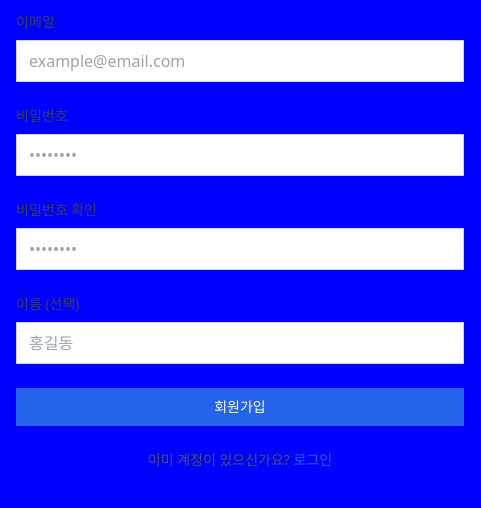
Test case: SignUpForm Component - TASK-009 › should show validation error for password mismatch
The image size is (481, 508).
In the field labelled "이메일": (240, 61) [16, 40, 464, 82], type "test@example.com"
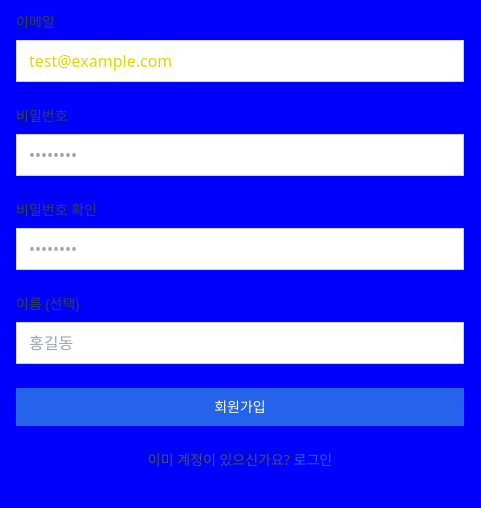
In the password field labelled "비밀번호": (240, 155) [16, 134, 464, 176], type "SecurePass123!"
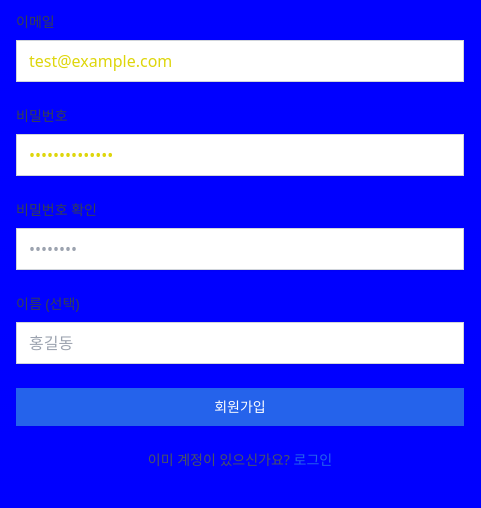
In the password field labelled "비밀번호 확인": (240, 249) [16, 228, 464, 270], type "DifferentPass123!"
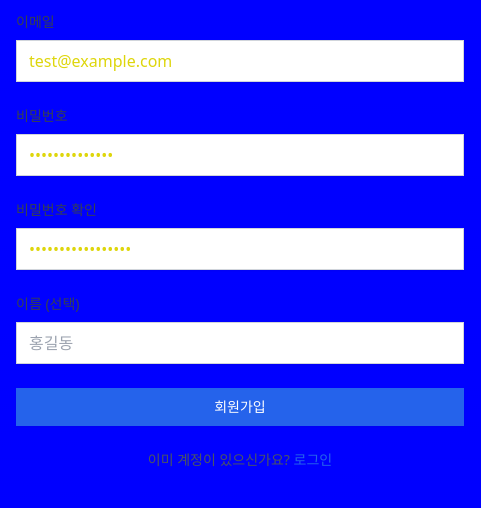
Click the button "회원가입": click(240, 407) [16, 388, 464, 426]
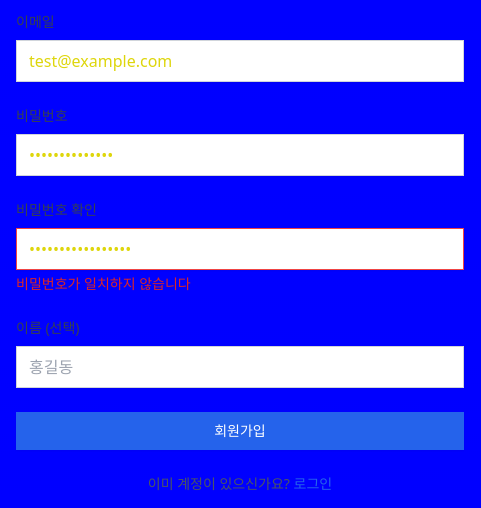
Now the text "비밀번호가 일치하지 않습니다" is shown, box [16, 274, 191, 293]
